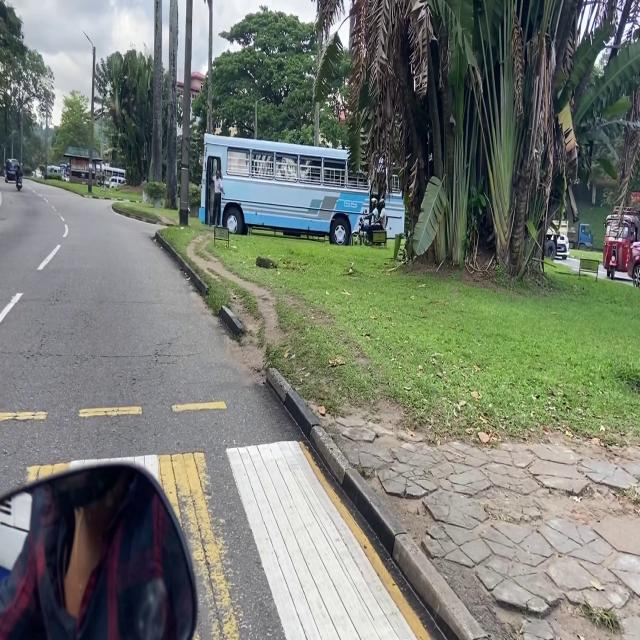bus: (200, 134, 404, 245), (102, 164, 125, 180)
car: (627, 241, 640, 287), (557, 234, 569, 260)
motorcycle: (351, 215, 370, 245), (16, 176, 22, 191)
person: (365, 198, 387, 239), (212, 169, 223, 226), (370, 196, 378, 222), (142, 180, 147, 203), (15, 165, 22, 180)
three wheeler: (603, 207, 640, 279)
truck: (545, 220, 568, 260), (568, 222, 593, 248)
van: (5, 159, 19, 183), (109, 177, 124, 188)
